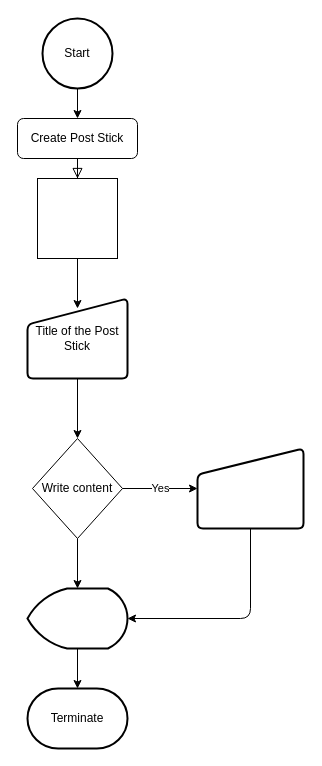
The diagram is 322 pixels wide and 766 high, and some of its shapes have lost their labels. Here are the shapes that lost their labels. From the top down, the centre of each, then its label:
the point at 77,218: Post Stick
the point at 250,488: Content input from the user
the point at 77,618: Display Post Strick on the Whiteboard
